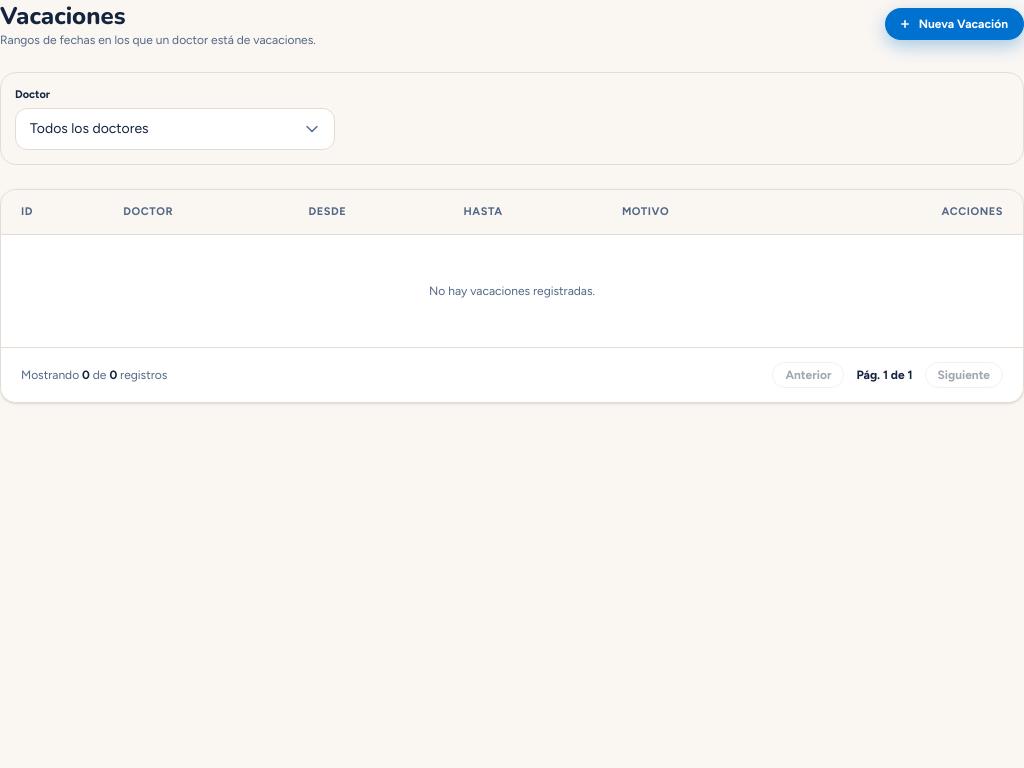
Scenario: TimeOffListComponent › shows the conflicting-slots warning when creating a time-off returns booked turns that were not blocked
Click the button "Nueva Vacación" at {"x": 954, "y": 24}, box [885,8,1023,40]
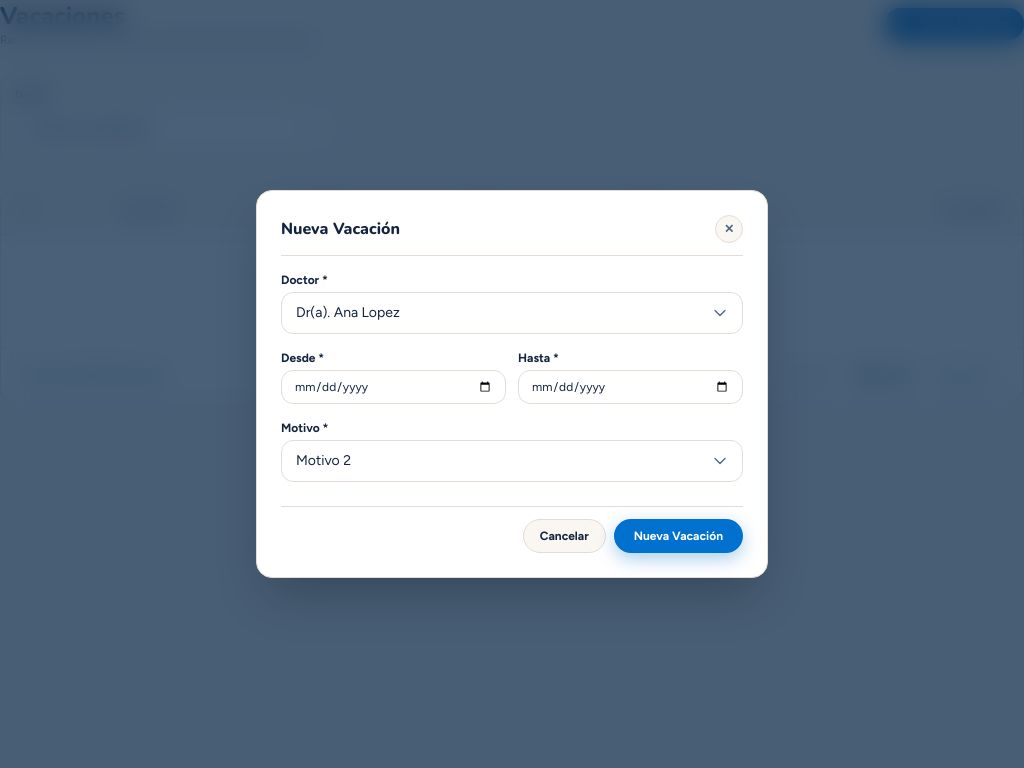
Type "2026-09-01" into the date field with id "timeOffStartDate" at {"x": 394, "y": 387}, box [281,370,506,404]
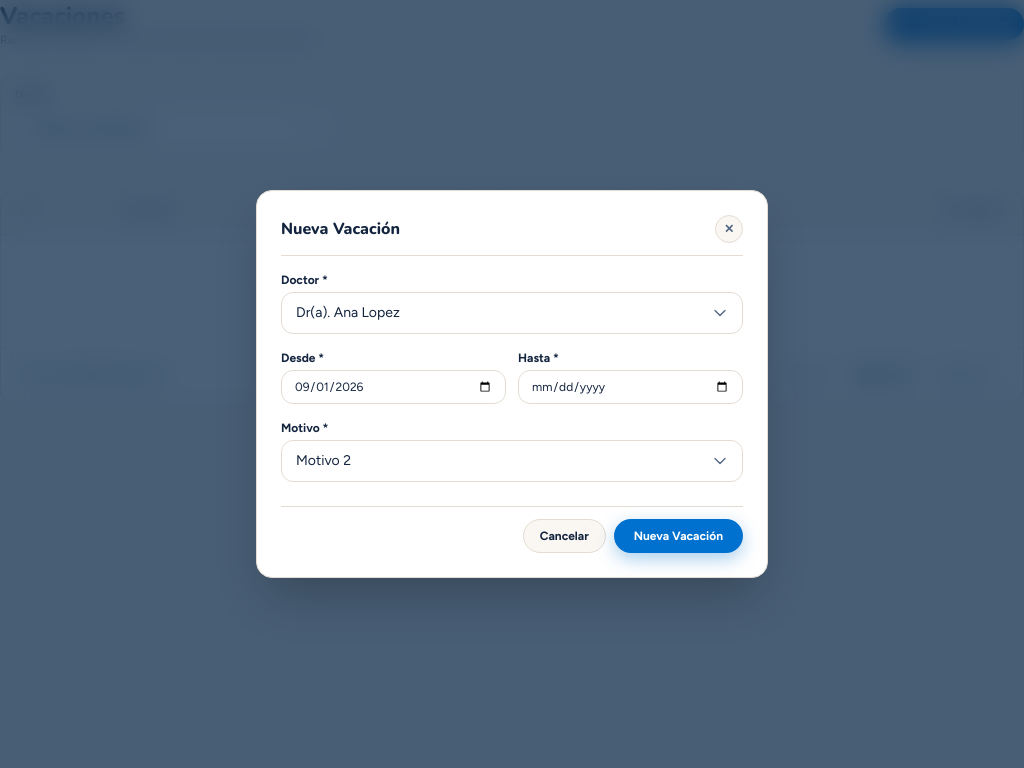
Type "2026-09-05" into the date field with id "timeOffEndDate" at {"x": 630, "y": 387}, box [518,370,743,404]
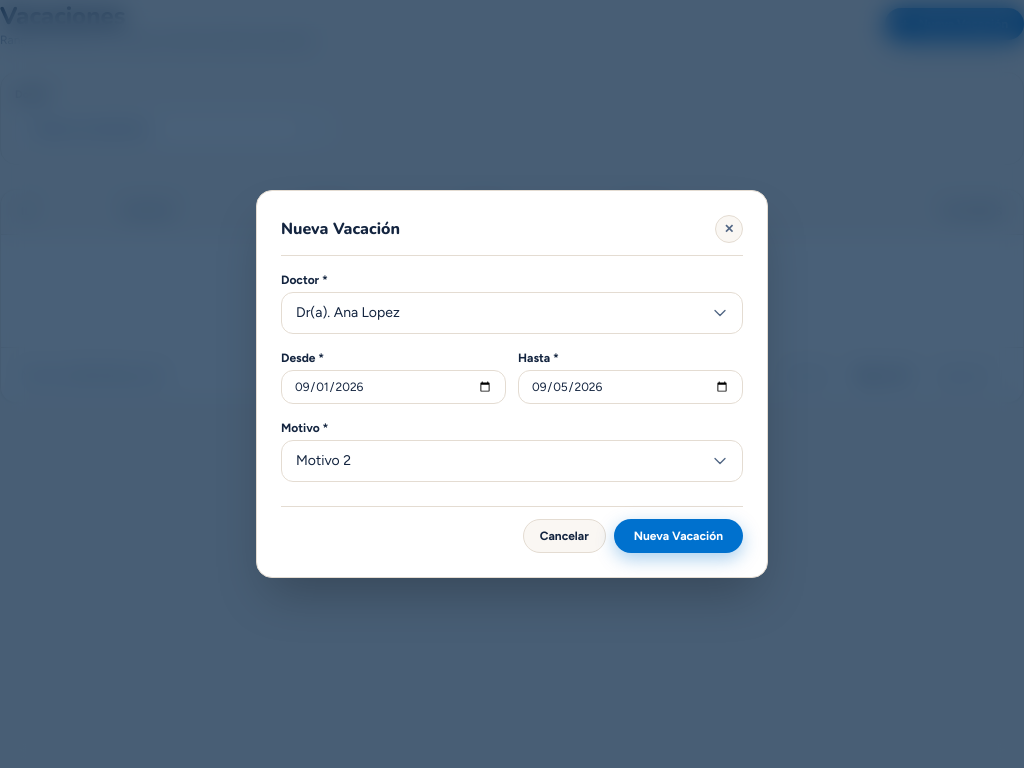
Submit the form, box [281,272,743,553]
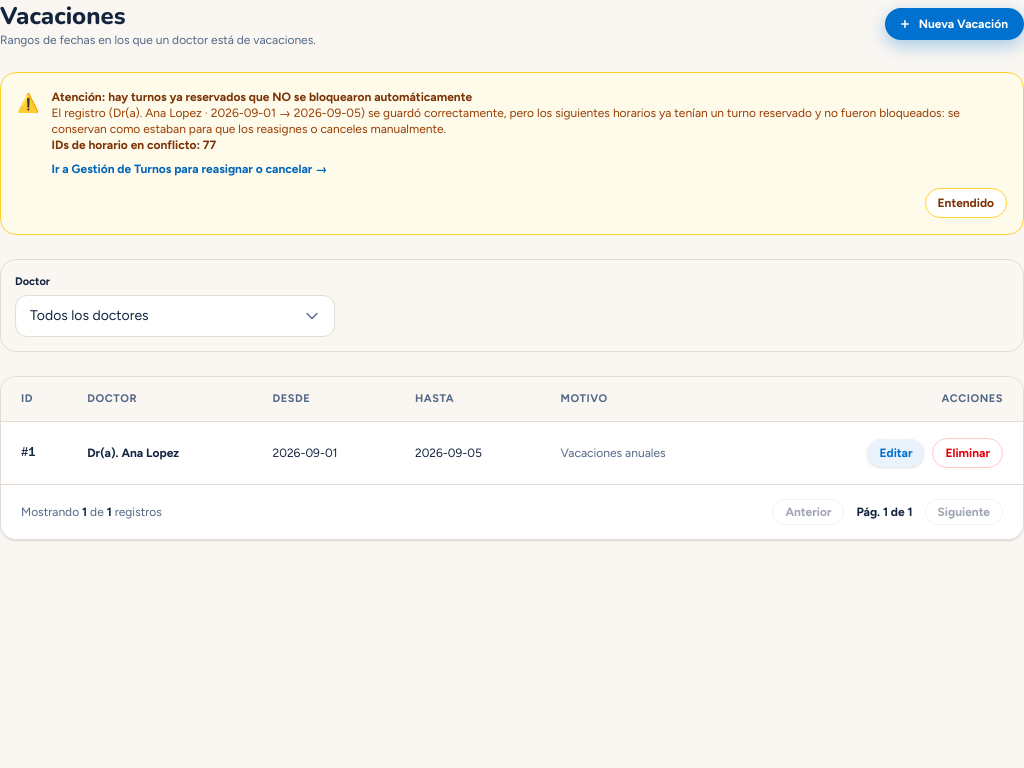
Expected: the text "77" is shown, [52,138,216,152]
